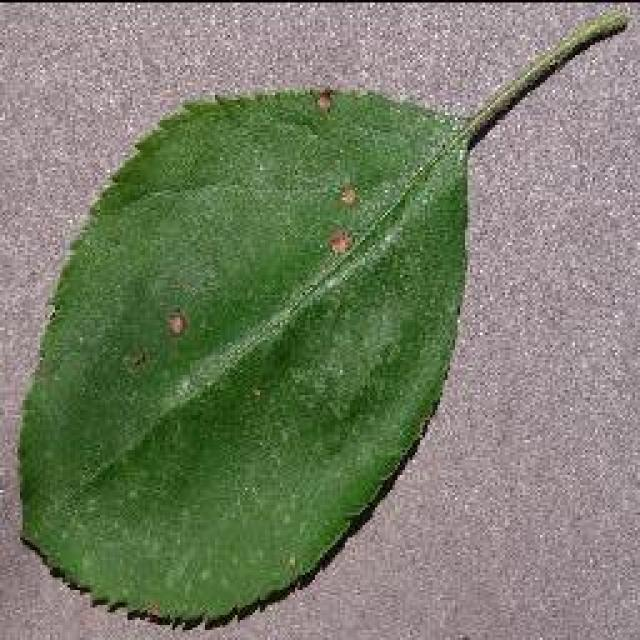apple healthy: (12, 5, 632, 633)
